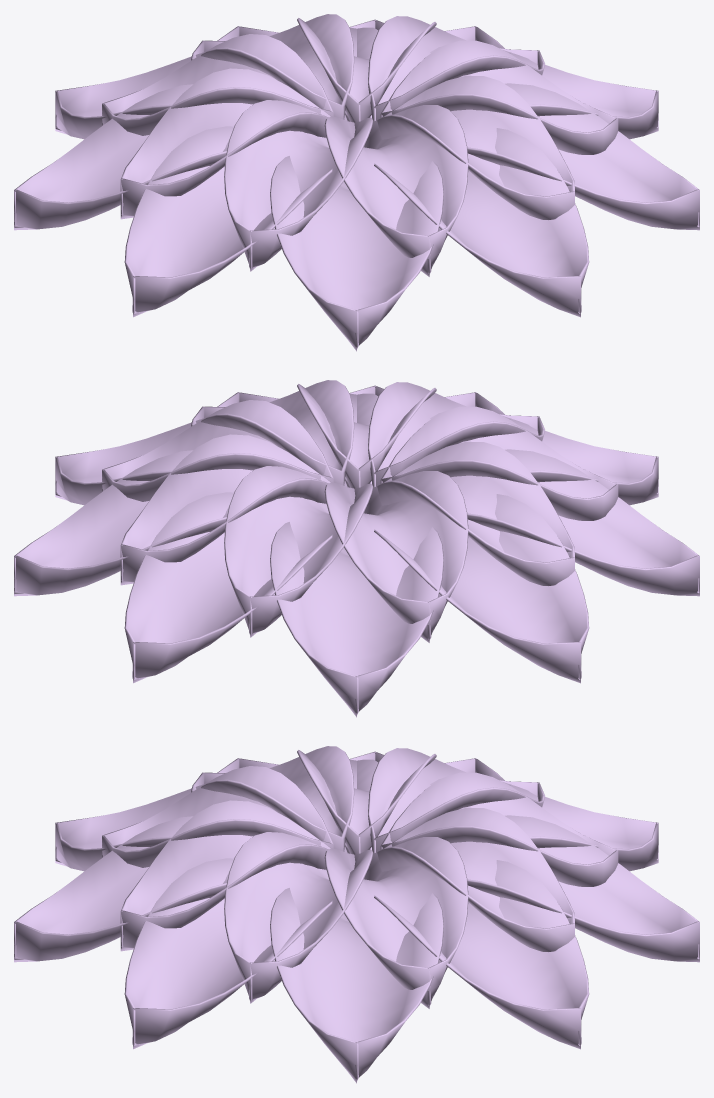
The model's file is celestial-flower.glb.
The picture shows the model from 3 angles, top to bottom: view 1: azimuth 30°, elevation 25°; view 2: azimuth 150°, elevation 25°; view 3: azimuth 270°, elevation 25°; orthographic projection.
Parts seen in each view (by area): view 1: Pearl petal.006, Pearl petal.007, Pearl petal.005, Pearl petal.015, Pearl petal.014, Pearl petal.008, Pearl petal.004, Pearl petal.013, Pearl petal.016, Pearl petal.012, Pearl petal.017, Pearl petal.009 (+6 smaller); view 2: Pearl petal.003, Pearl petal.004, Pearl petal.002, Pearl petal.012, Pearl petal.011, Pearl petal.005, Pearl petal.001, Pearl petal.010, Pearl petal.013, Pearl petal.009, Pearl petal.014, Pearl petal.015 (+6 smaller); view 3: Pearl petal, Pearl petal.001, Pearl petal.008, Pearl petal.009, Pearl petal.017, Pearl petal.002, Pearl petal.007, Pearl petal.016, Pearl petal.010, Pearl petal.015, Pearl petal.011, Pearl petal.012 (+6 smaller).
Part boxes in pixels (x1,y1,x2,y2): Pearl petal.006: (270,156,443,351); Pearl petal.007: (374,128,589,317); Pearl petal.005: (124,126,332,317); Pearl petal.015: (324,105,468,276); Pearl petal.014: (224,100,373,271); Pearl petal.008: (467,83,699,230); Pearl petal.004: (14,84,226,230); Pearl petal.013: (120,68,330,219); Pearl petal.016: (377,75,574,219); Pearl petal.012: (102,34,333,135); Pearl petal.017: (380,40,618,154); Pearl petal.009: (368,16,544,121); Pearl petal.003: (270,522,443,717); Pearl petal.004: (374,494,589,683); Pearl petal.002: (124,492,332,683); Pearl petal.012: (324,471,468,642); Pearl petal.011: (224,466,373,637); Pearl petal.005: (467,449,699,596); Pearl petal.001: (14,450,226,596); Pearl petal.010: (120,434,330,585); Pearl petal.013: (377,441,574,585); Pearl petal.009: (102,400,333,501); Pearl petal.014: (380,406,618,520); Pearl petal.015: (368,382,544,487); Pearl petal: (270,888,443,1083); Pearl petal.001: (374,860,589,1049); Pearl petal.008: (124,858,332,1049); Pearl petal.009: (324,837,468,1008); Pearl petal.017: (224,832,373,1003); Pearl petal.002: (467,815,699,962); Pearl petal.007: (14,816,226,962); Pearl petal.016: (120,800,330,951); Pearl petal.010: (377,807,574,951); Pearl petal.015: (102,766,333,867); Pearl petal.011: (380,772,618,886); Pearl petal.012: (368,748,544,853).
Size of the model in its own units: 3.96 by 0.9966 by 4.02.
